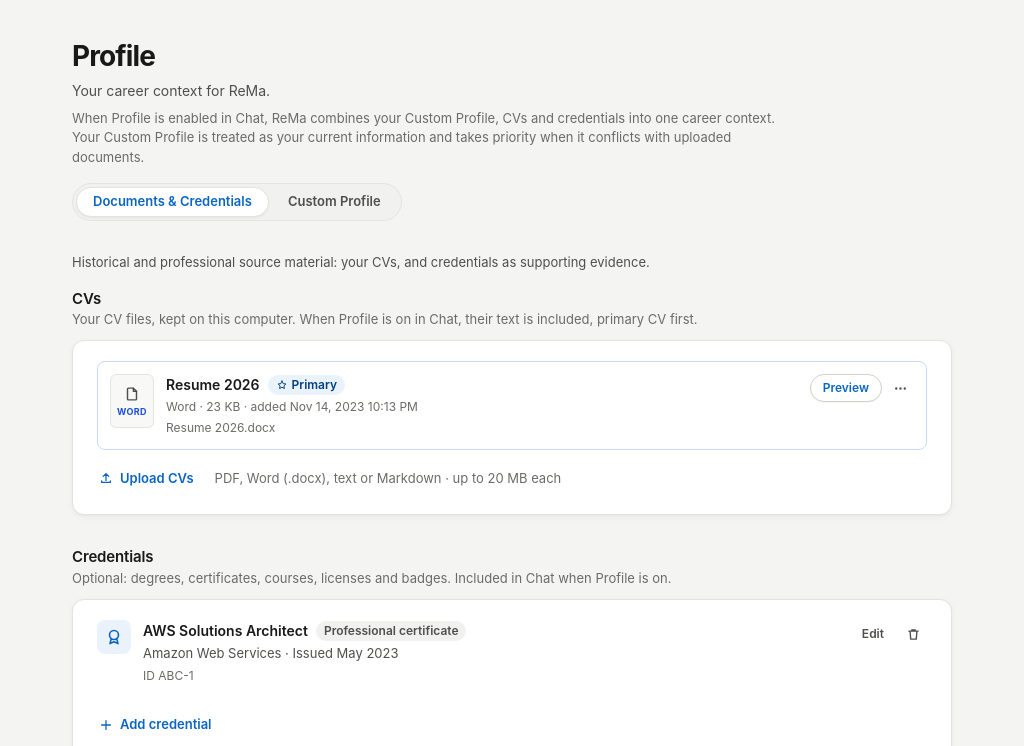
Profile › uploading CVs stays on the page and never fills the Custom Profile
Click the button "Upload CVs": (146, 478) [85,462,207,494]
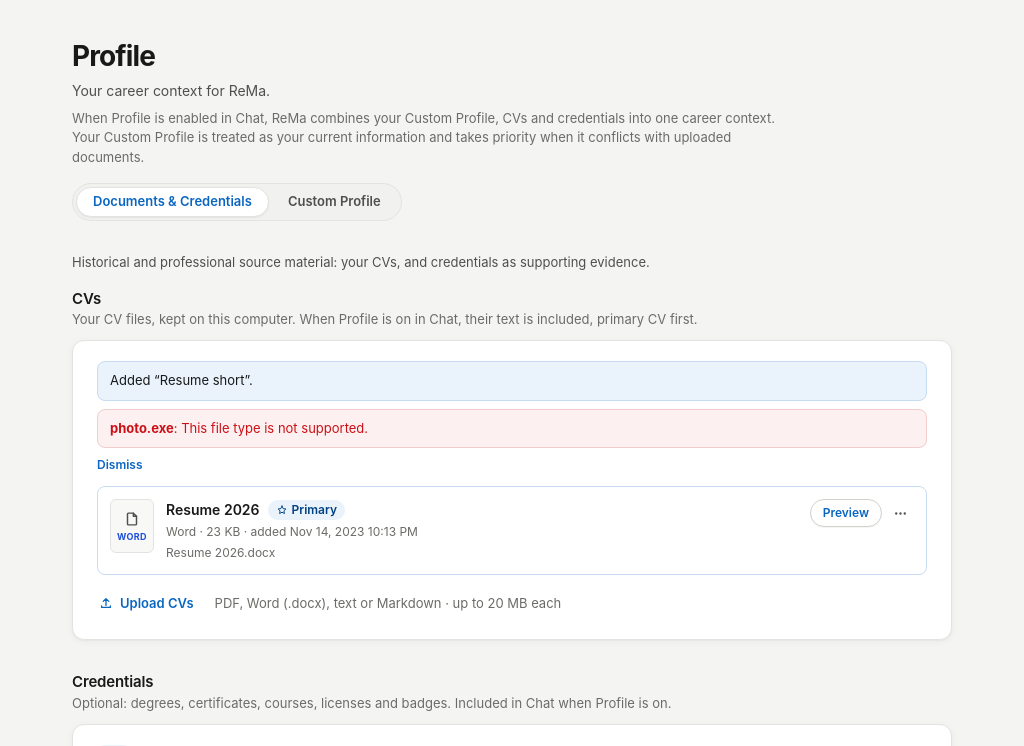
Check: the text "Added “Resume short”." is shown, box [97,361,927,401]
Check: the text "photo.exe" is shown, box [110,420,174,436]
